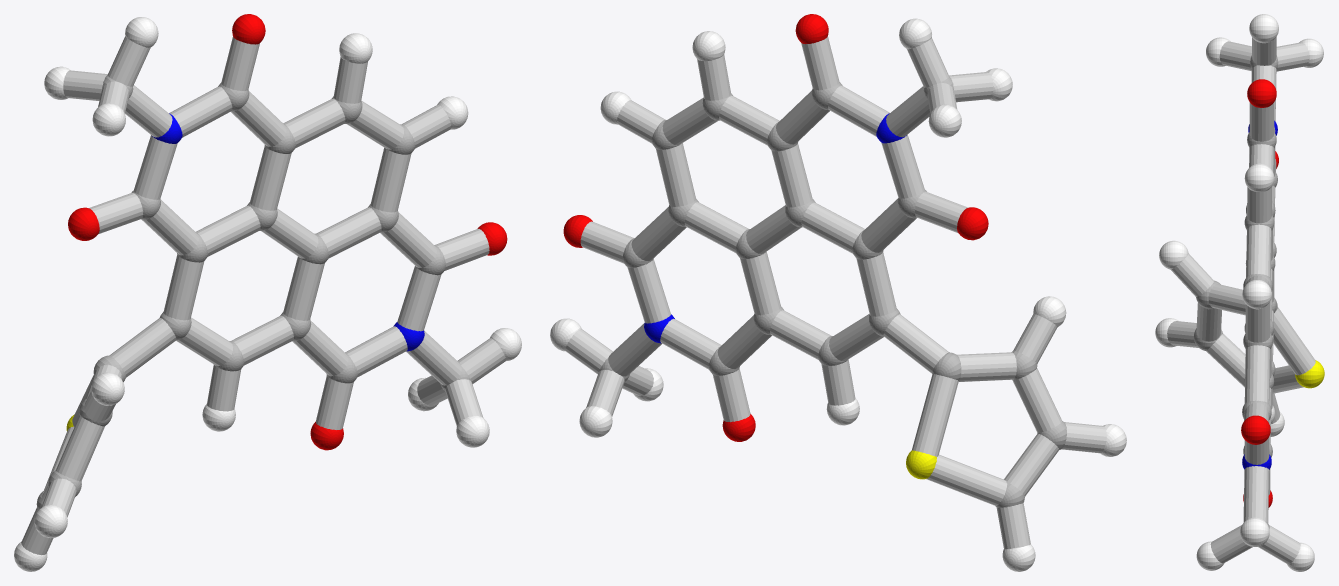
The model's file is Dimethyl_Naphthalene_Dicarboximide_Phi_30_Theta_310_Thiophene.glb.
3 renders of one model, left to right at view 1: azimuth 30°, elevation 25°; view 2: azimuth 150°, elevation 25°; view 3: azimuth 270°, elevation 25°, orthographic. The views are drawn at different scales.
Parts seen in each view (by area): view 1: grp14119, grp7241, grp1, grp12309, grp11585; view 2: grp14119, grp7241, grp1, grp12309, grp11585; view 3: grp14119, grp7241, grp1, grp12309, grp13757, grp11585.
Boxes of the visible parts, x1=… form: grp14119: x1=21, y1=36, x2=506, y2=555; grp7241: x1=14, y1=17, x2=521, y2=571; grp1: x1=36, y1=75, x2=470, y2=510; grp12309: x1=68, y1=14, x2=507, y2=450; grp11585: x1=152, y1=113, x2=424, y2=351; grp14119: x1=565, y1=36, x2=1106, y2=549; grp7241: x1=550, y1=18, x2=1126, y2=571; grp1: x1=599, y1=76, x2=1066, y2=507; grp12309: x1=563, y1=14, x2=988, y2=441; grp11585: x1=644, y1=113, x2=906, y2=343; grp14119: x1=1167, y1=37, x2=1315, y2=564; grp7241: x1=1155, y1=14, x2=1323, y2=571; grp1: x1=1194, y1=55, x2=1278, y2=528; grp12309: x1=1241, y1=79, x2=1278, y2=507; grp13757: x1=1295, y1=360, x2=1324, y2=388; grp11585: x1=1242, y1=120, x2=1277, y2=469.
Bounding box in the file's own units: 10.96 × 10.42 × 3.42.
